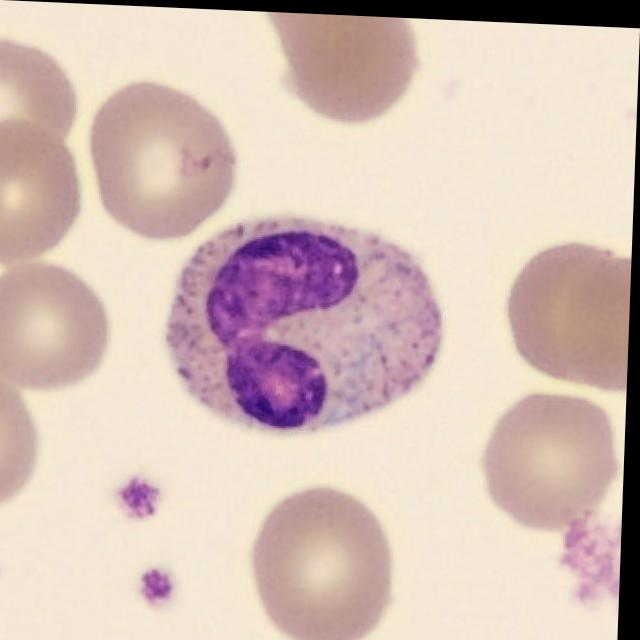Bastonete: (166, 214, 445, 432)
